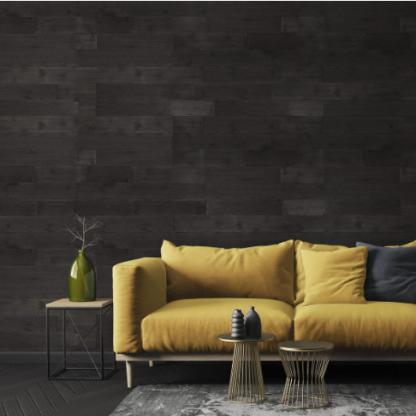Wall Panel: (0, 2, 416, 358)
